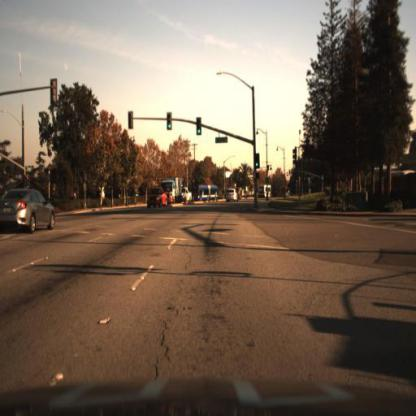car: (2, 189, 57, 235), (147, 186, 168, 206), (224, 186, 238, 206), (181, 188, 193, 202)
trafficLight: (127, 110, 135, 133)
trafficLight-Green: (254, 152, 262, 173), (196, 117, 203, 138), (167, 112, 173, 132)
truck: (162, 176, 184, 205), (193, 185, 220, 203)
